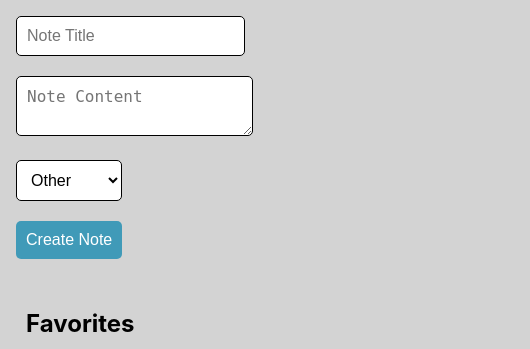
Scenario: StickyNotes Component › deletes a note when delete button is clicked
// Create a note
Type "Note to Delete" into the field with placeholder "Note Title" at (130, 36), box [16,16,245,56]
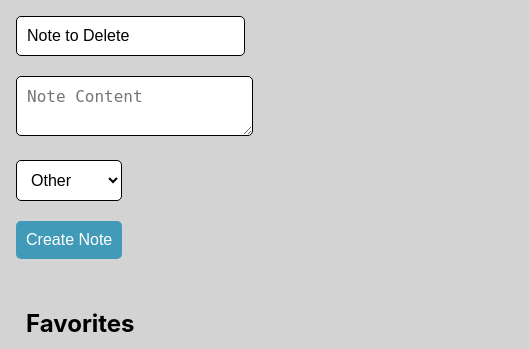
Type "Content to Delete" into the text box with placeholder "Note Content" at (134, 106), box [16,76,253,136]
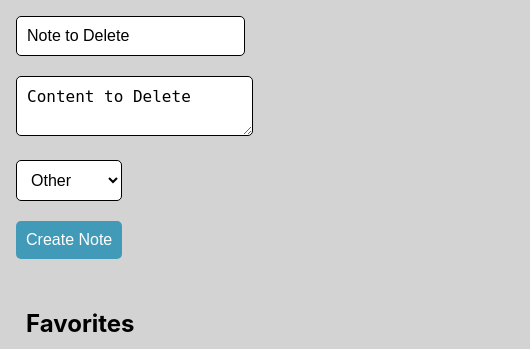
Click the button "Create Note" at (69, 240), box [16,221,122,259]
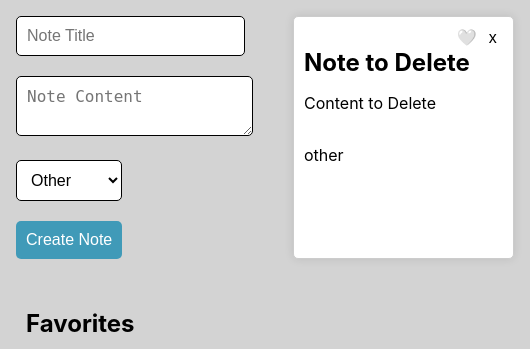
Expected: the heading "Note to Delete" is shown, [304,48,470,77]
// Click delete button
Click the button with test id "delete-button-1" at (493, 38), box [483,28,503,48]
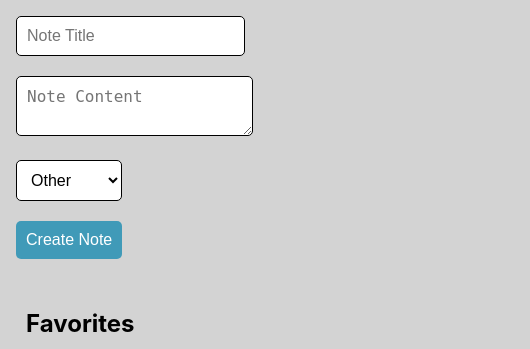
Expected: the heading "Note to Delete" is gone
